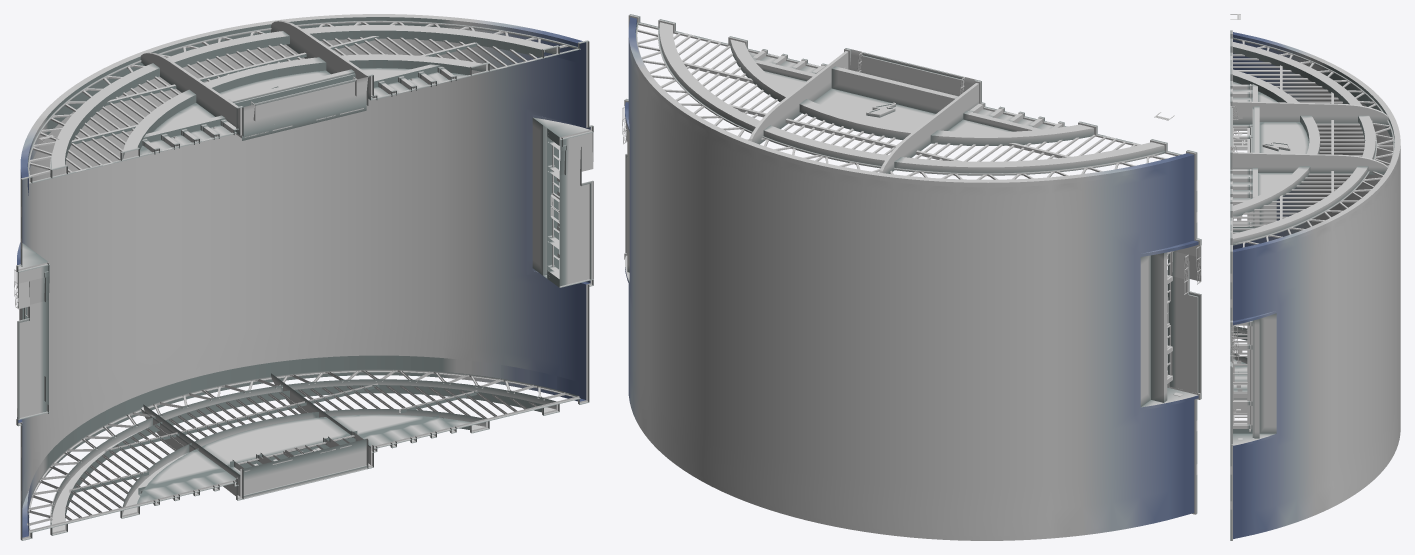
File: SM_000569_merge_w40h020_1_whitewall_lv1.fbx
3 views of the same model, side by side, from view 1: azimuth 30°, elevation 25°; view 2: azimuth 150°, elevation 25°; view 3: azimuth 270°, elevation 25° (orthographic). The views are drawn at different scales.
Parts seen in each view (by area): view 1: SM_000569.001; view 2: SM_000569.001; view 3: SM_000569.001.
Part boxes in pixels (x1,y1,x2,y2): SM_000569.001: (14, 14, 593, 540); SM_000569.001: (622, 14, 1201, 540); SM_000569.001: (1230, 14, 1400, 540).
Bounding box in the file's own units: 99.26 × 66.75 × 31.77.
